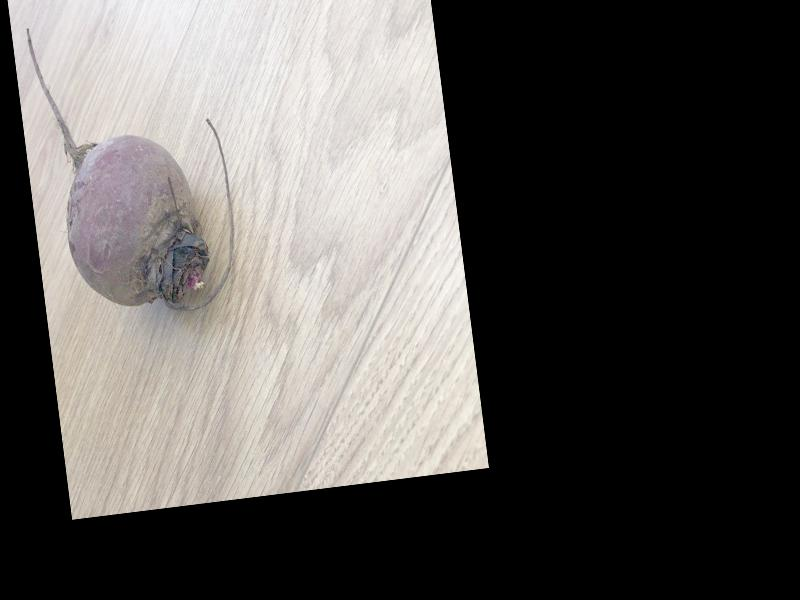Beet: (25, 5, 243, 323)
